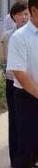boots: (0, 135, 10, 148), (0, 149, 11, 160)
ppe-suit: (0, 0, 1, 1)
